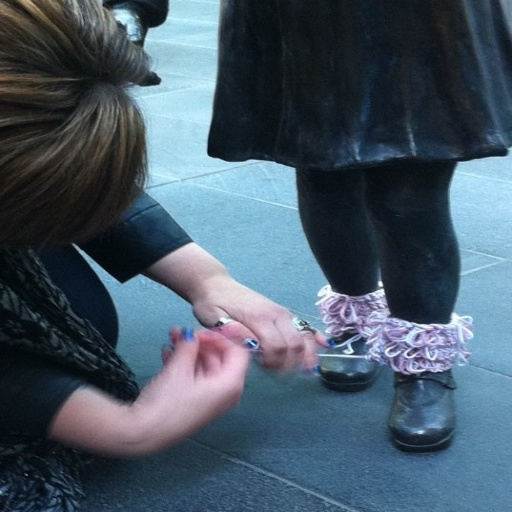hand: (130, 322, 249, 454), (163, 283, 313, 372)
